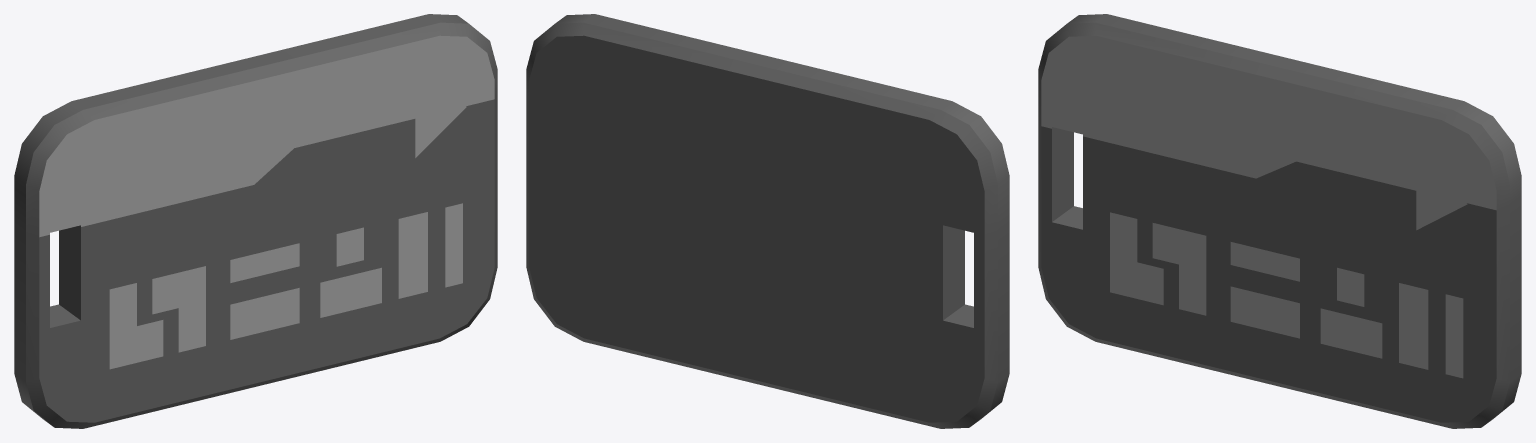
The model's file is Pickup Key Card2.glb.
3 views of the same model, side by side, from view 1: azimuth 30°, elevation 25°; view 2: azimuth 150°, elevation 25°; view 3: azimuth 330°, elevation 25° (orthographic).
Parts seen in each view (by area): view 1: Pickup_KeyCard; view 2: Pickup_KeyCard; view 3: Pickup_KeyCard.
Boxes of the visible parts, x1,y1,x2,y2 form: Pickup_KeyCard: (14,14,497,428); Pickup_KeyCard: (526,14,1009,428); Pickup_KeyCard: (1038,14,1521,428).
Bounding box in the file's own units: 1.04 × 0.674 × 0.0876.
Materials: 1 (1 with a texture image).
